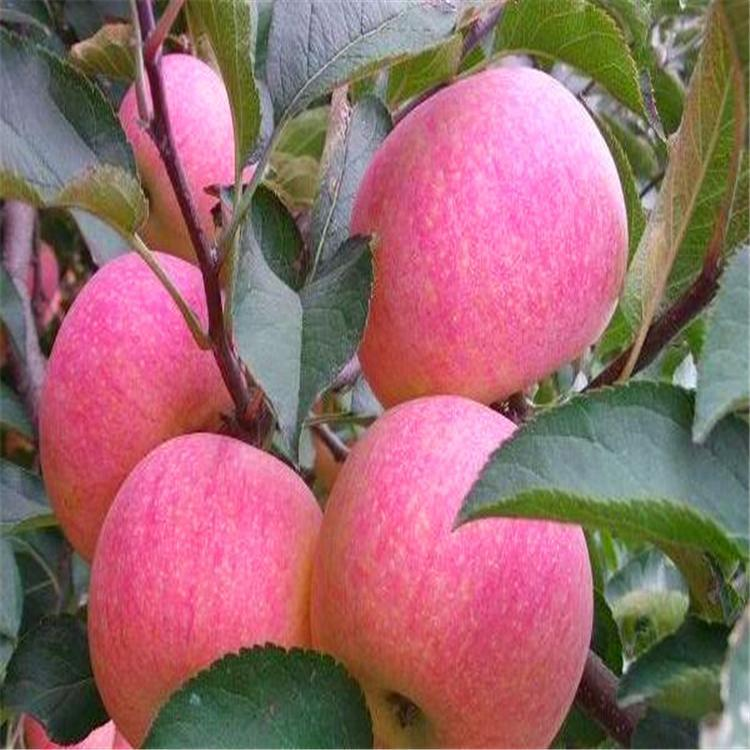apple: (351, 70, 639, 415), (304, 400, 592, 745), (83, 433, 322, 750), (37, 251, 234, 563), (117, 53, 239, 259)
